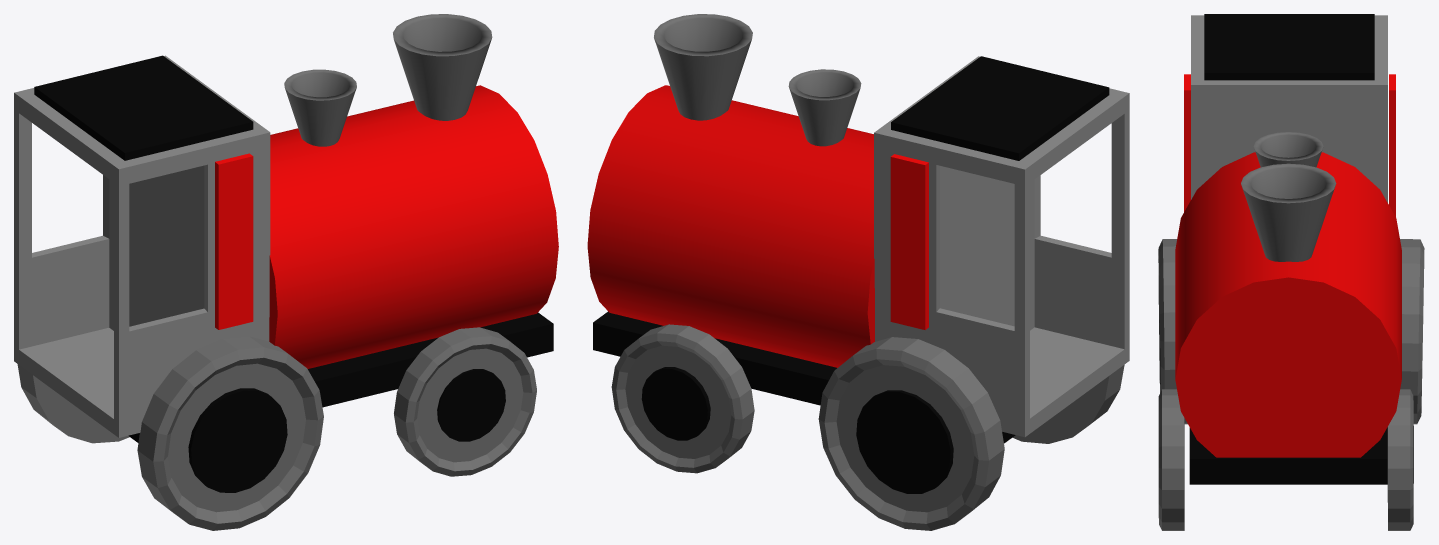
The model's file is Train.fbx.
3 renders of one model, left to right at view 1: azimuth 30°, elevation 25°; view 2: azimuth 150°, elevation 25°; view 3: azimuth 270°, elevation 25°, orthographic. The views are drawn at different scales.
Visible parts, largest first — view 1: base, compartment1, wheel_l_right, top_decal, wheel_s_right, wheel_decal_l_right, chimney_l, right_decal, underside, chimney_s, wheel_decal_s_right, wheel_l_left; view 2: base, compartment1, wheel_l_left, top_decal, wheel_s_left, wheel_decal_l_left, chimney_l, left_decal, underside, chimney_s, wheel_decal_s_left, wheel_l_right; view 3: base, compartment1, top_decal, chimney_l, underside, wheel_s_right, wheel_l_left, wheel_s_left, wheel_l_right, chimney_s, left_decal, right_decal.
Part boxes in pixels (left/top/right/bottom): base: left=269, top=85, right=558, bottom=368; compartment1: left=14, top=55, right=270, bottom=437; wheel_l_right: left=137, top=336, right=323, bottom=530; top_decal: left=34, top=55, right=253, bottom=160; wheel_s_right: left=394, top=327, right=536, bottom=476; wheel_decal_l_right: left=188, top=388, right=287, bottom=492; chimney_l: left=393, top=14, right=492, bottom=120; right_decal: left=215, top=153, right=253, bottom=329; underside: left=128, top=312, right=553, bottom=442; chimney_s: left=284, top=69, right=356, bottom=146; wheel_decal_s_right: left=437, top=369, right=505, bottom=441; wheel_l_left: left=17, top=364, right=129, bottom=443; base: left=587, top=85, right=874, bottom=367; compartment1: left=874, top=56, right=1129, bottom=437; wheel_l_left: left=818, top=337, right=1004, bottom=530; top_decal: left=891, top=56, right=1109, bottom=160; wheel_s_left: left=611, top=324, right=754, bottom=473; wheel_decal_l_left: left=856, top=390, right=953, bottom=493; chimney_l: left=654, top=14, right=752, bottom=120; left_decal: left=890, top=154, right=928, bottom=329; underside: left=593, top=311, right=1015, bottom=443; chimney_s: left=788, top=69, right=861, bottom=146; wheel_decal_s_left: left=641, top=367, right=710, bottom=440; wheel_l_right: left=1012, top=365, right=1124, bottom=443; base: left=1175, top=152, right=1401, bottom=457; compartment1: left=1191, top=15, right=1387, bottom=202; top_decal: left=1204, top=14, right=1374, bottom=80; chimney_l: left=1241, top=163, right=1336, bottom=261; underside: left=1189, top=427, right=1387, bottom=484; wheel_s_right: left=1158, top=389, right=1184, bottom=530; wheel_l_left: left=1400, top=239, right=1424, bottom=424; wheel_s_left: left=1387, top=389, right=1413, bottom=530; wheel_l_right: left=1158, top=239, right=1187, bottom=424; chimney_s: left=1253, top=132, right=1323, bottom=167; left_decal: left=1389, top=74, right=1395, bottom=216; right_decal: left=1184, top=74, right=1190, bottom=211.
Bounding box in the file's own units: 5.29 × 4.48 × 2.99.
